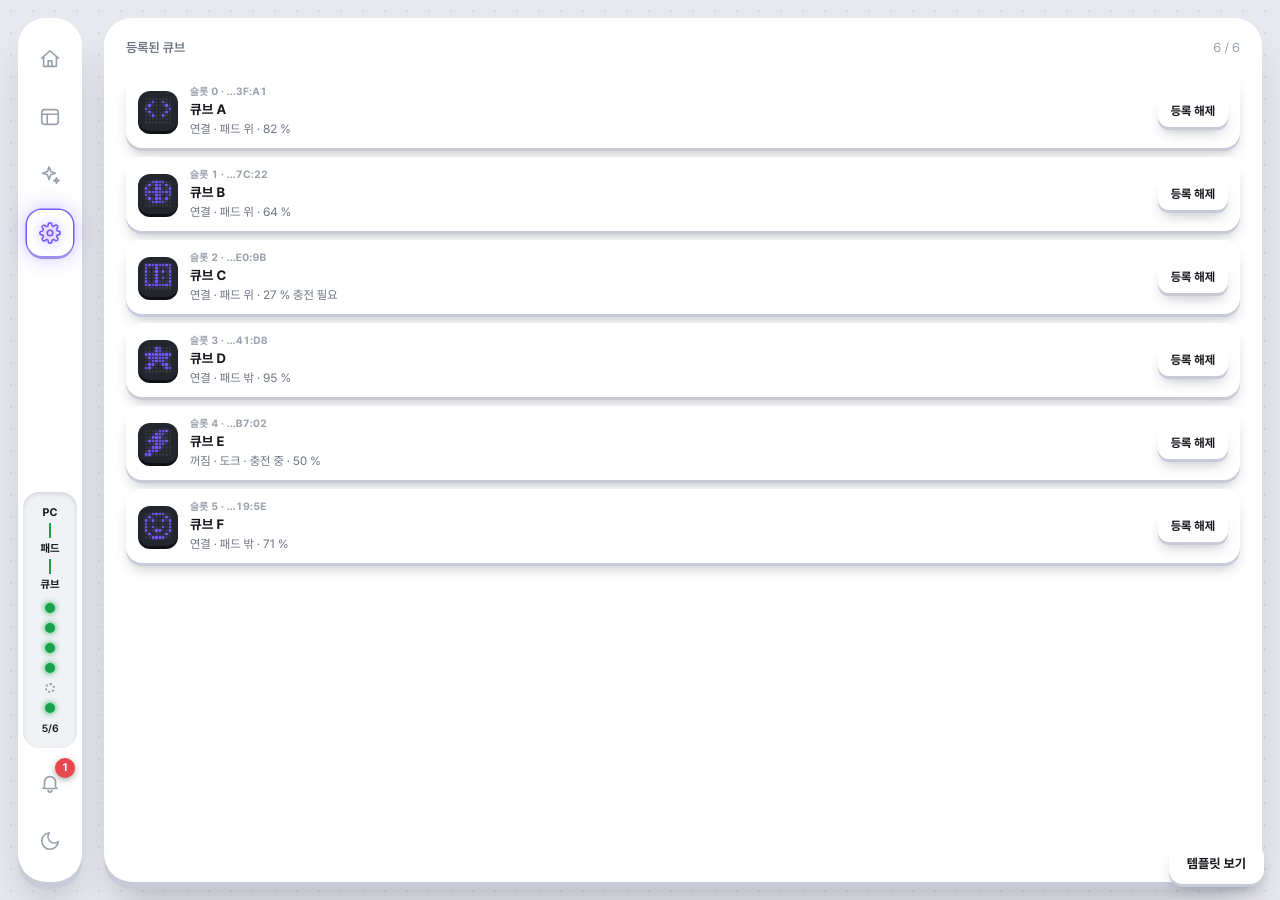
Test: 설정: 등록 해제는 한 번 더 눌러야 한다
Click the button "등록 해제" in the row of "3F:A1": (1193, 110) [1158,94,1228,126]
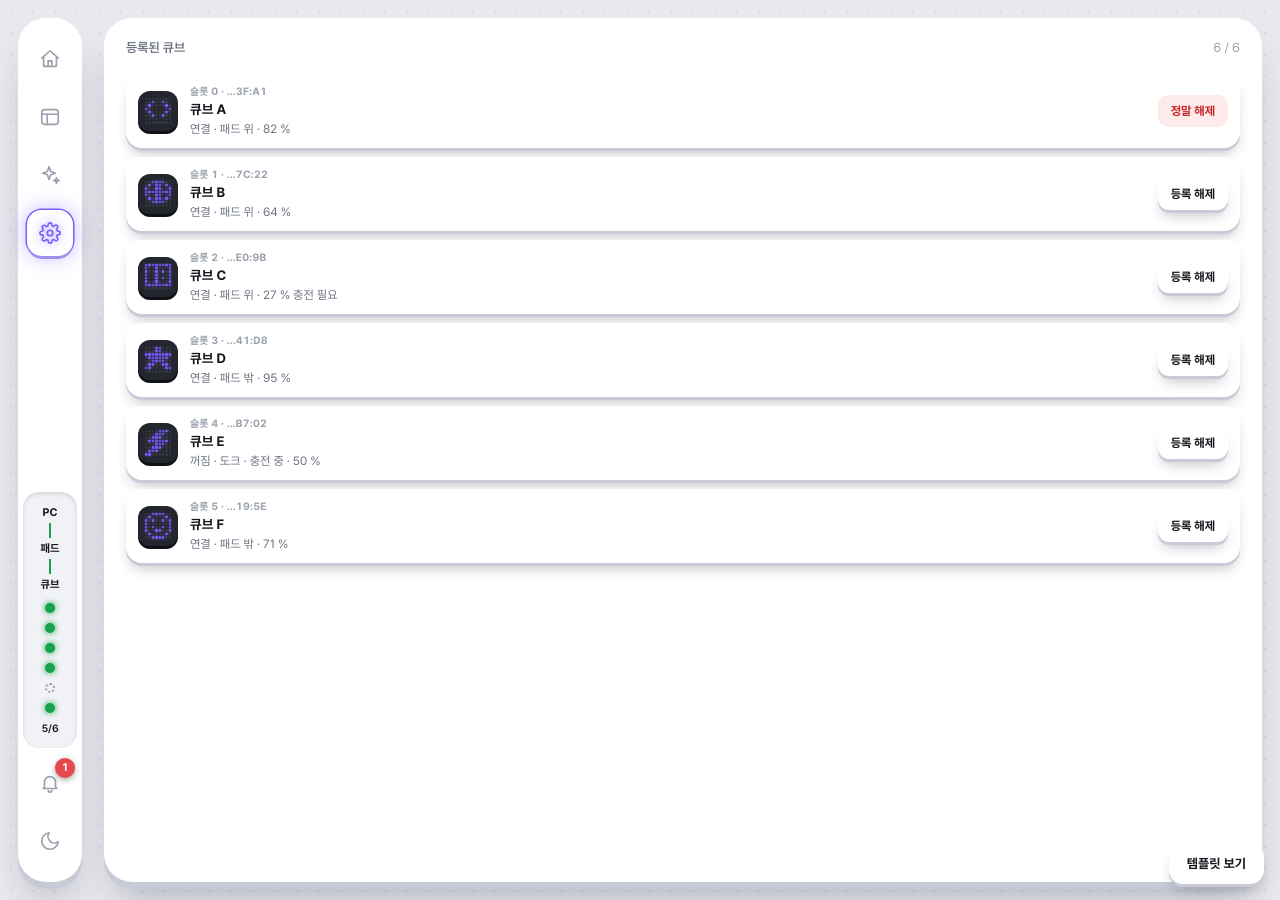
Click the button "정말 해제": (1193, 110) [1158,94,1228,126]
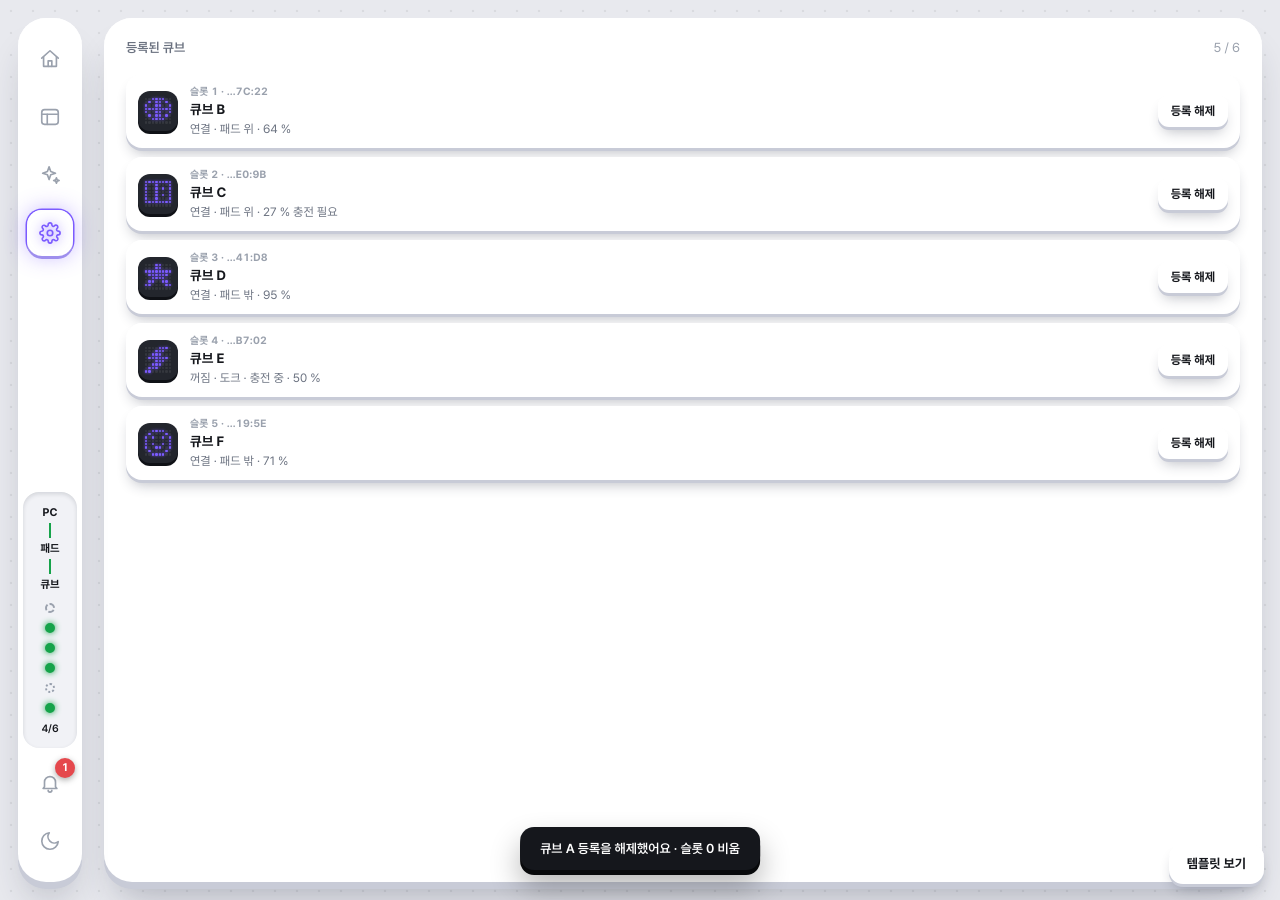
Expected: the number of buttons "등록 해제" is 5, [1158,94,1228,126]; [1158,178,1228,210]; [1158,260,1228,292]; [1158,344,1228,376]; [1158,426,1228,458]
